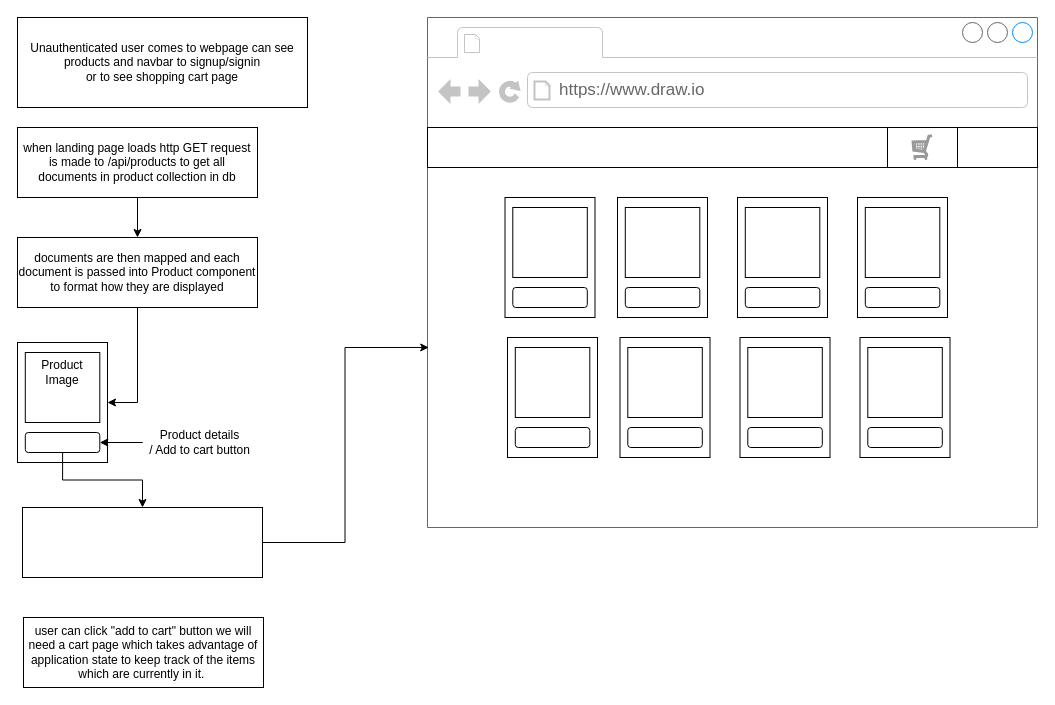
Image size: 1055x705. Some labels were removed from this diagram. Here are the shapes that lost their labels. From the top down, the centre of each, then its label:
At (542,42): "Page 1".
At (997,147): "Singin".
At (142,542): "list of Product components is displayed to user on screen".
